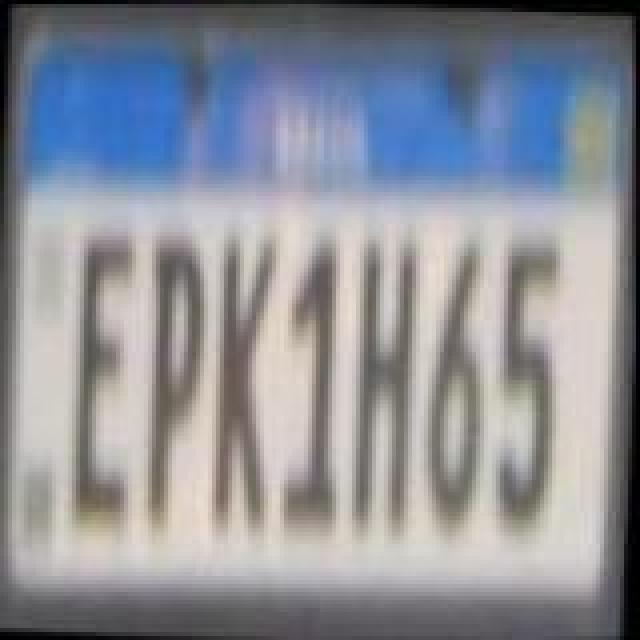1: (278, 230, 358, 542)
5: (486, 234, 566, 534)
6: (420, 236, 496, 532)
E: (66, 236, 146, 524)
H: (346, 238, 426, 530)
K: (206, 228, 286, 540)
P: (140, 236, 216, 532)
